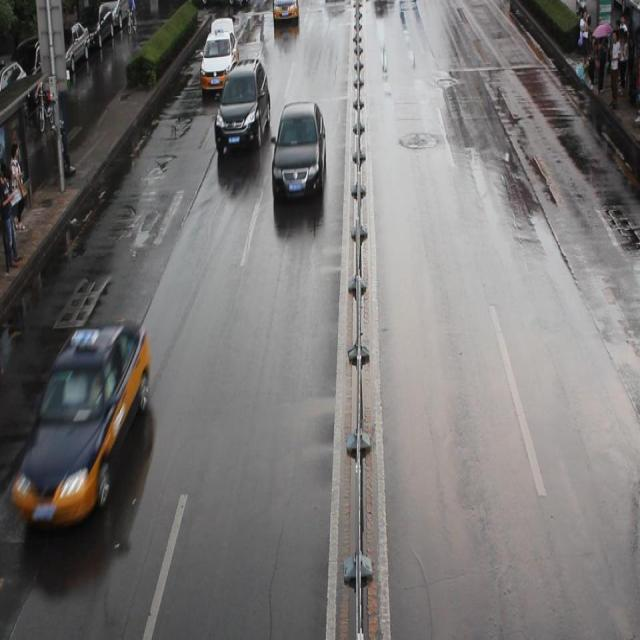car: (20, 324, 150, 534), (271, 101, 325, 201), (214, 59, 270, 152), (200, 30, 238, 93), (272, 1, 298, 25)
